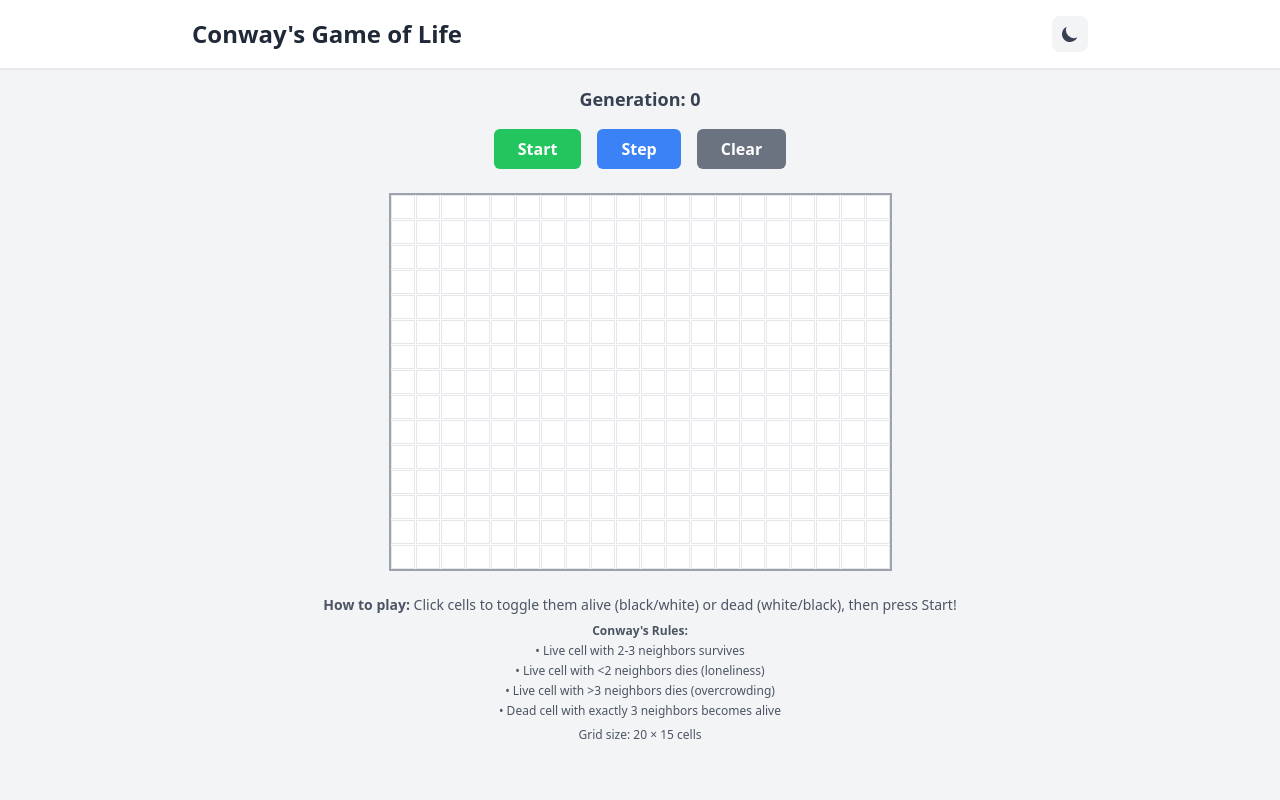
Scenario: App Game Logic › should increment generation when stepping
Expected: the text "Generation: 0" is shown, [579, 87, 701, 111]
// Step twice and verify increment
Click the button "Step".
click(639, 149)  # box [597, 129, 681, 169]
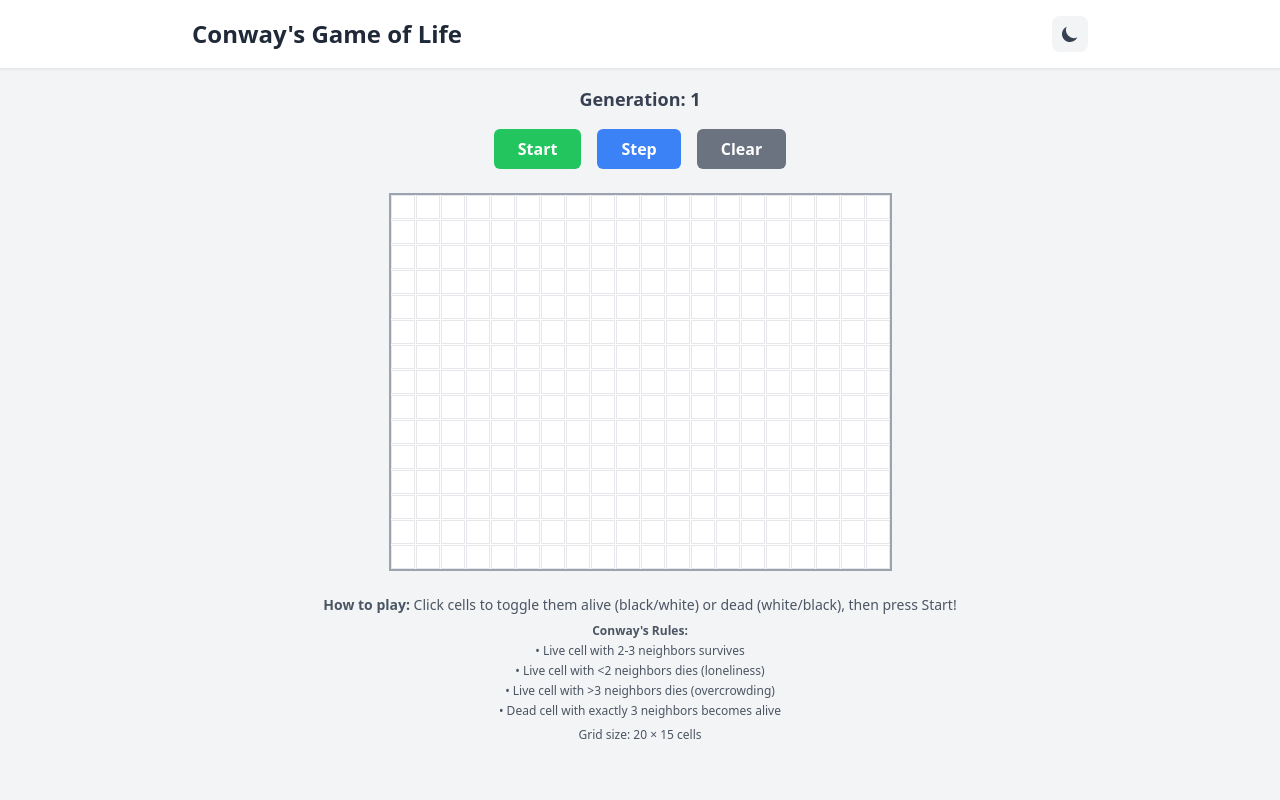
Expected: the text "Generation: 1" is shown, [579, 87, 701, 111]
Click the button "Step".
click(639, 149)  # box [597, 129, 681, 169]
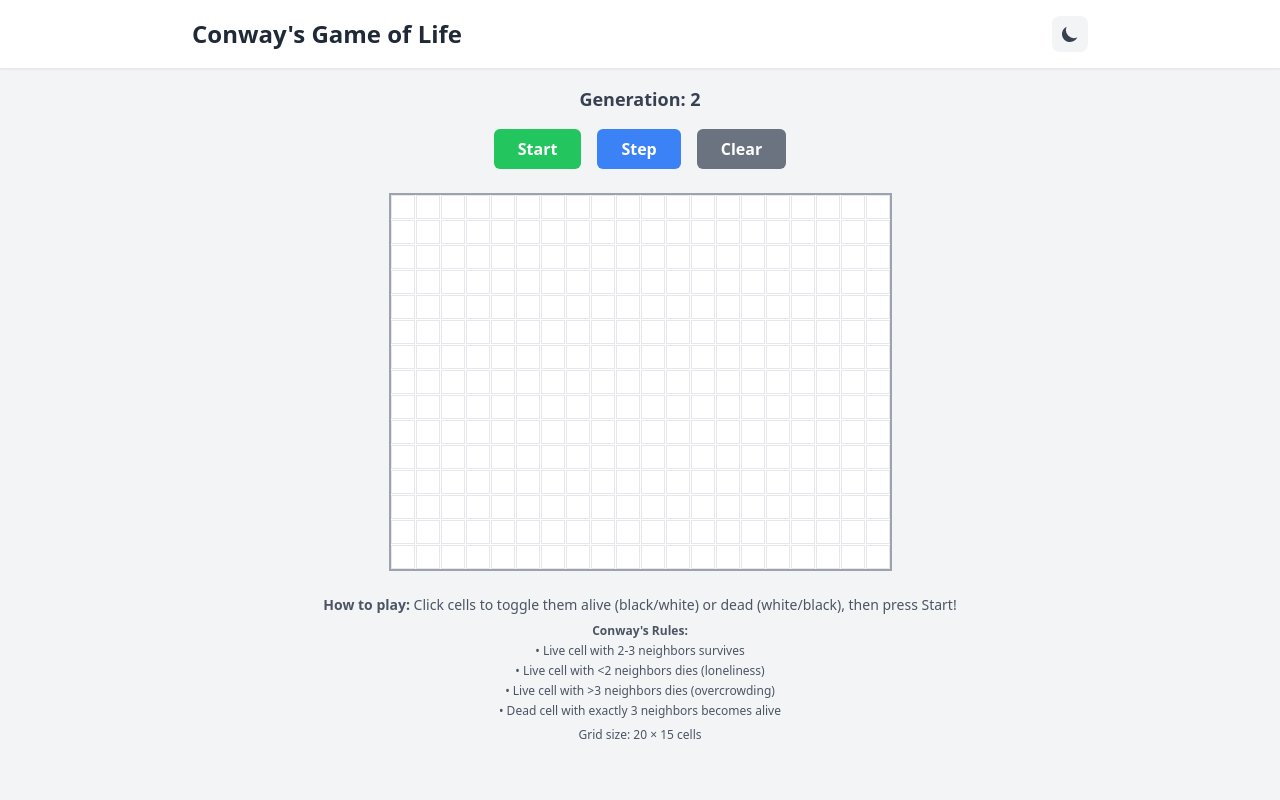
Expected: the text "Generation: 2" is shown, [579, 87, 701, 111]
